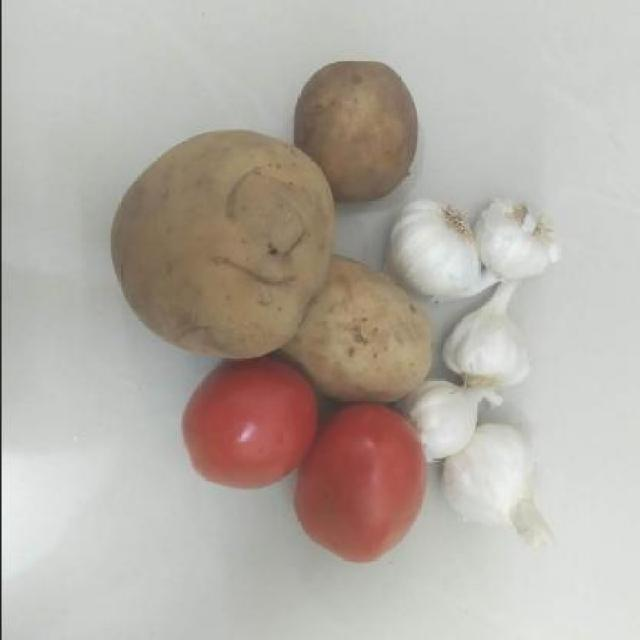Garlic: (438, 417, 556, 552), (469, 184, 577, 298), (386, 189, 479, 303), (443, 304, 532, 390)
Potato: (281, 48, 417, 197), (303, 252, 429, 398)
Tomato: (110, 135, 332, 363), (291, 412, 431, 566), (180, 356, 322, 490)
